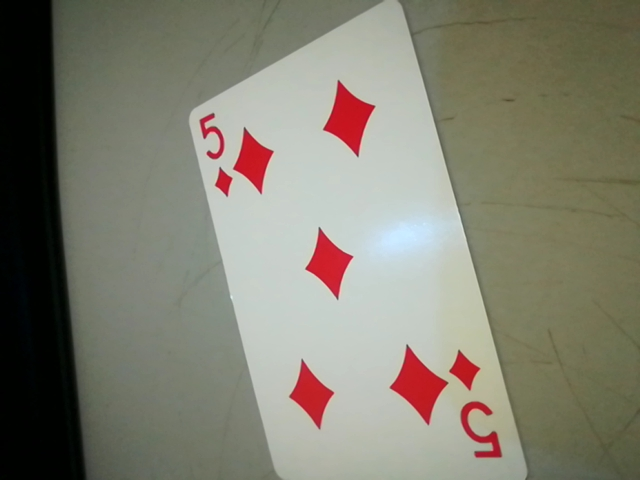fk 5: (444, 339, 509, 471)
